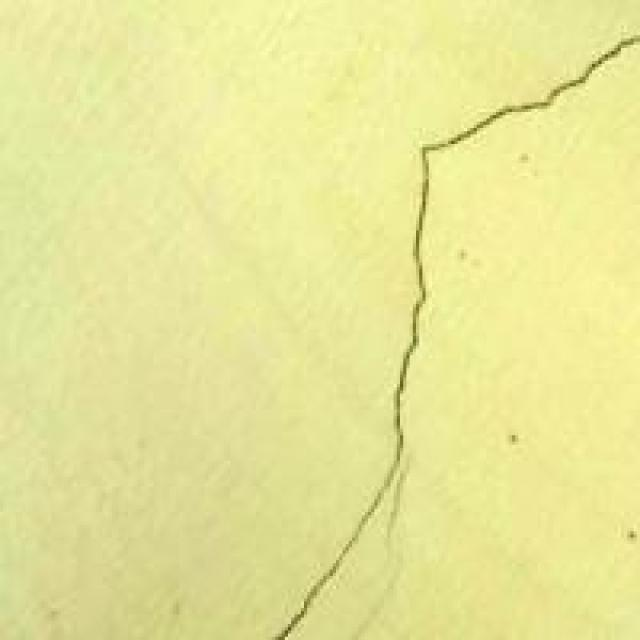Crack: (266, 26, 636, 636)
